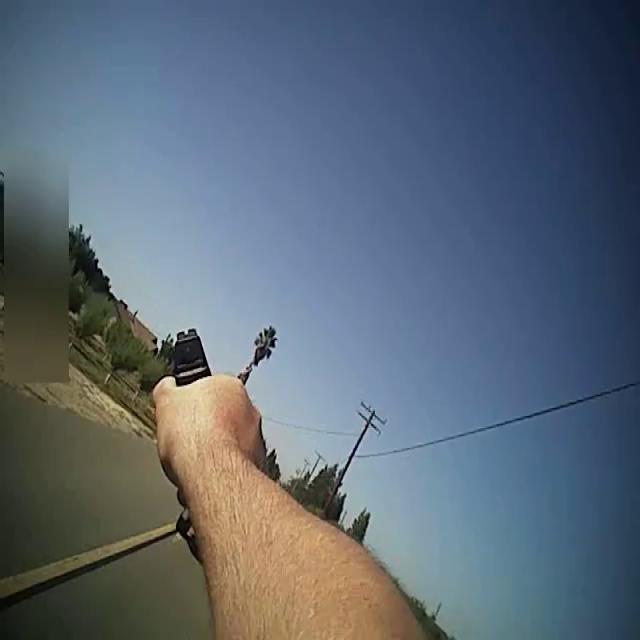gun: (149, 299, 234, 563)
